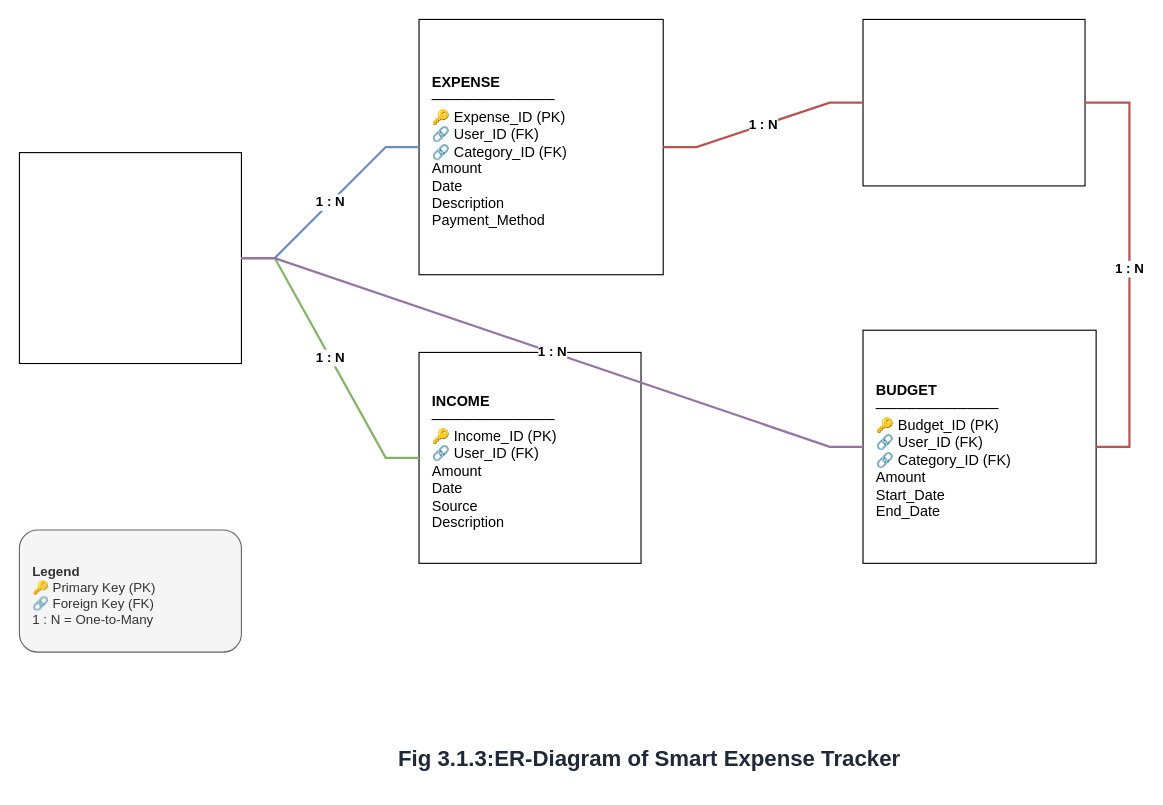
Image size: 1163x805. Some labels were removed from this diagram. Here are the shapes that lost their labels. From the top down, the centre of each, then its label:
point (973, 102): CATEGORY ──────────── 🔑 Category_ID (PK) Category_Name Description
point (129, 258): USER ──────────── 🔑 User_ID (PK) Name Email Password Phone
